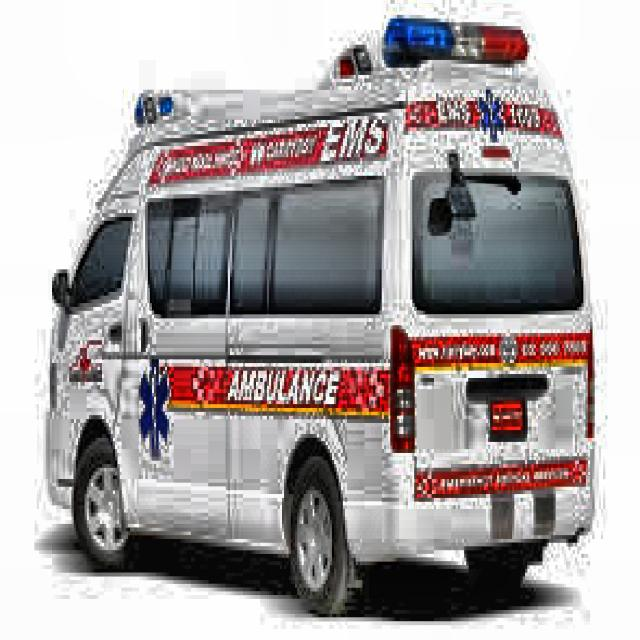Ambulance: (50, 15, 592, 610)
